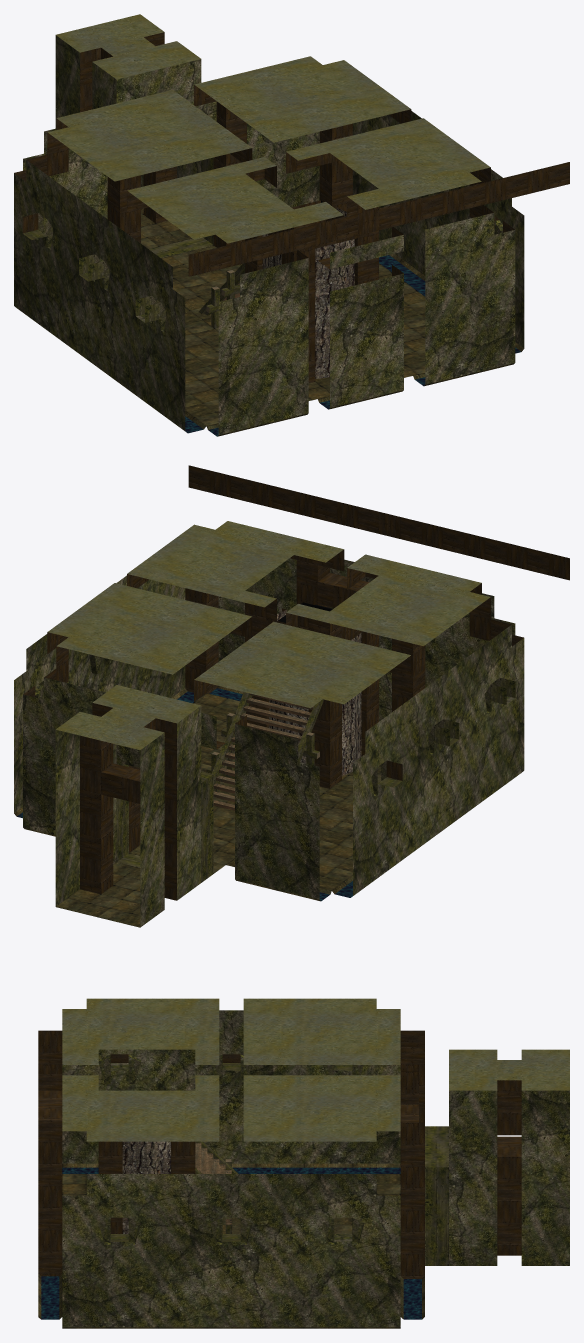
Rendered from wooddungeon1entrance.gltf.
The picture shows the model from 3 angles, top to bottom: view 1: azimuth 30°, elevation 25°; view 2: azimuth 150°, elevation 25°; view 3: azimuth 270°, elevation 25°; orthographic projection.
Parts seen in each view (by area): view 1: wooddungeon1entrance; view 2: wooddungeon1entrance; view 3: wooddungeon1entrance.
Boxes of the visible parts, <box> form: wooddungeon1entrance: <box>14,14,569,436</box>; wooddungeon1entrance: <box>14,465,569,927</box>; wooddungeon1entrance: <box>38,998,569,1328</box>.
Bounding box in the file's own units: 36 × 18.25 × 46.
Materials: 14 (14 with a texture image).
